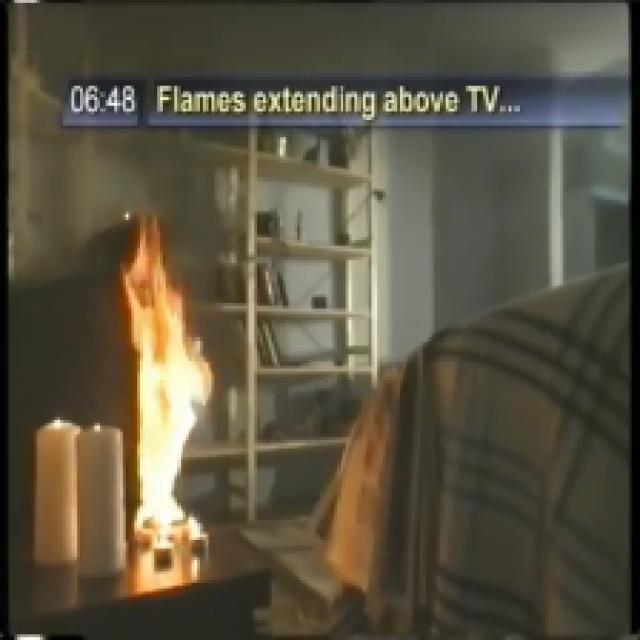Fire: (106, 216, 222, 534)
